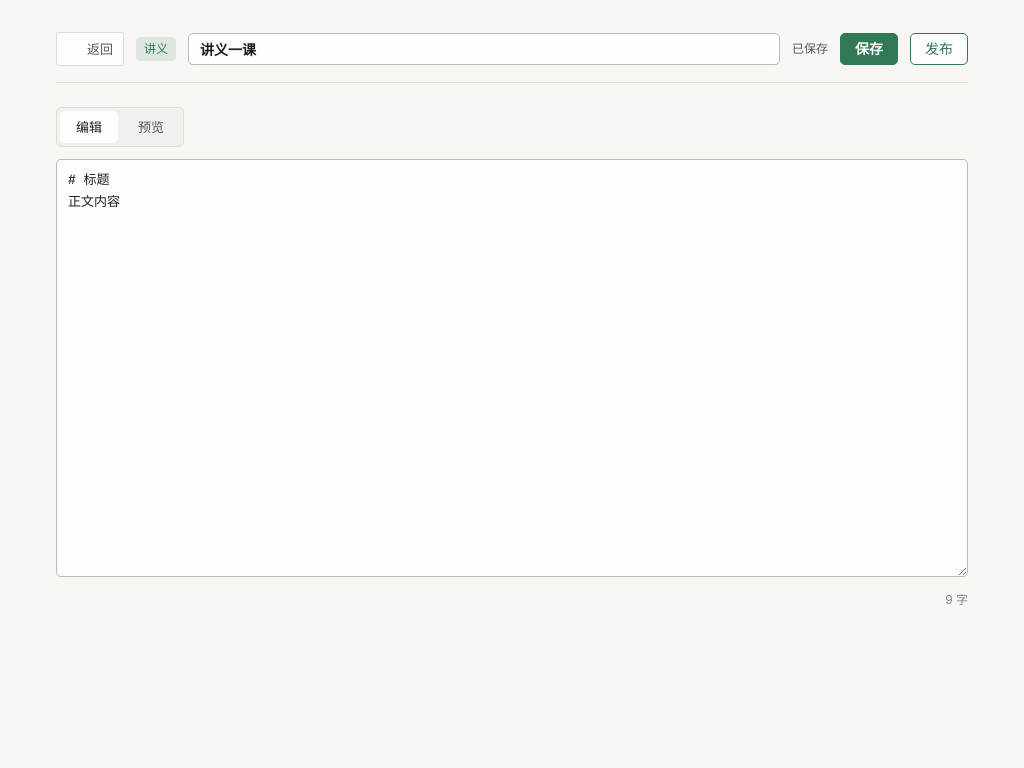
Test: LessonMarkdownEditor › 预览模式渲染 sanitize 后的 markdown
Click the button "预览" at {"x": 151, "y": 127}, box [122,111,180,143]
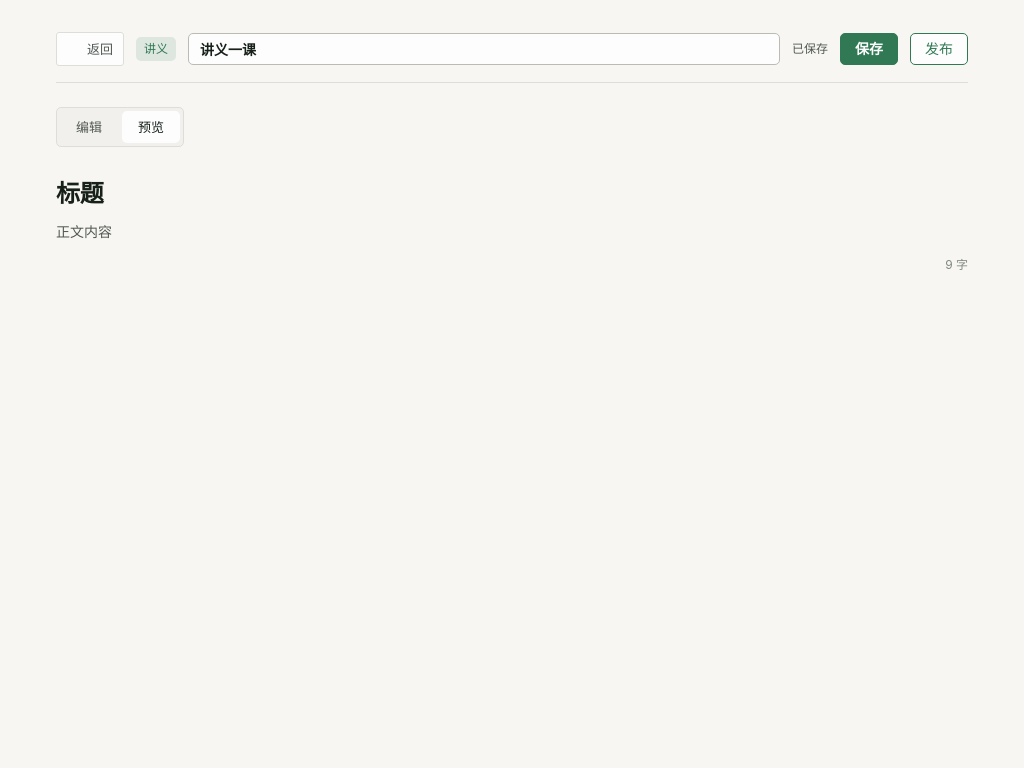
expect the element with class "lesson-content" shows "正文内容": met, box [56,223,112,240]
危险脚本被 sanitize 剥离
Click the button "编辑" at {"x": 89, "y": 127}, box [60,111,118,143]
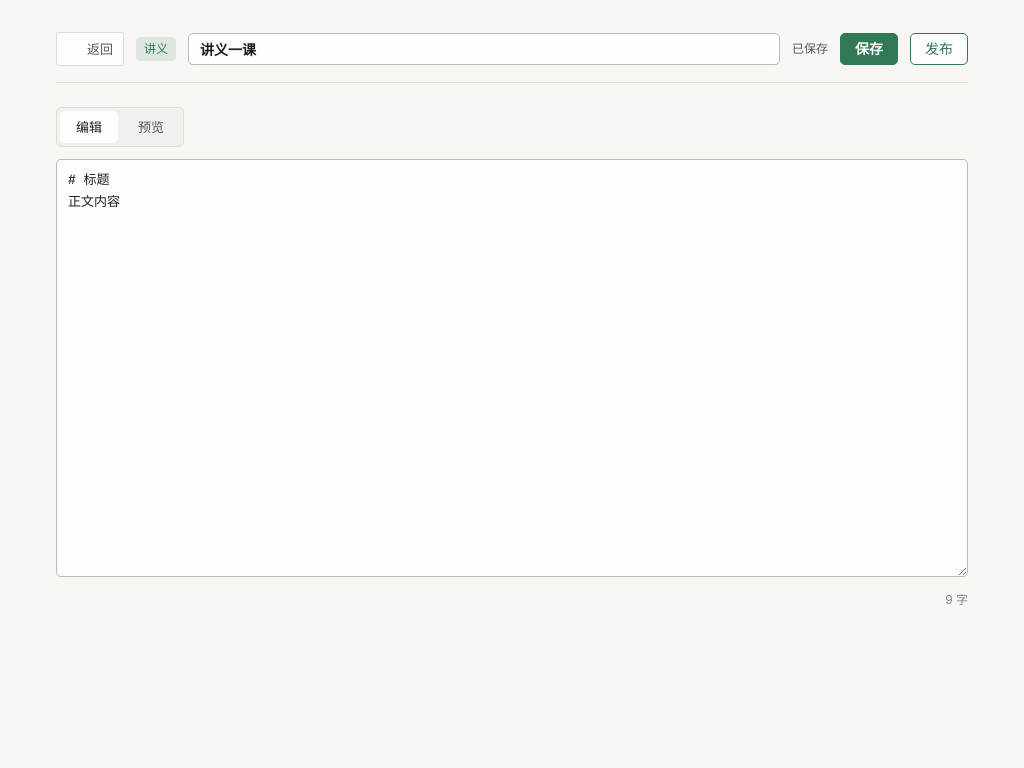
Replace the text in the text box with class "content-textarea" with "<script>alert(1)</script>正文" at {"x": 512, "y": 368}, box [56,159,968,577]
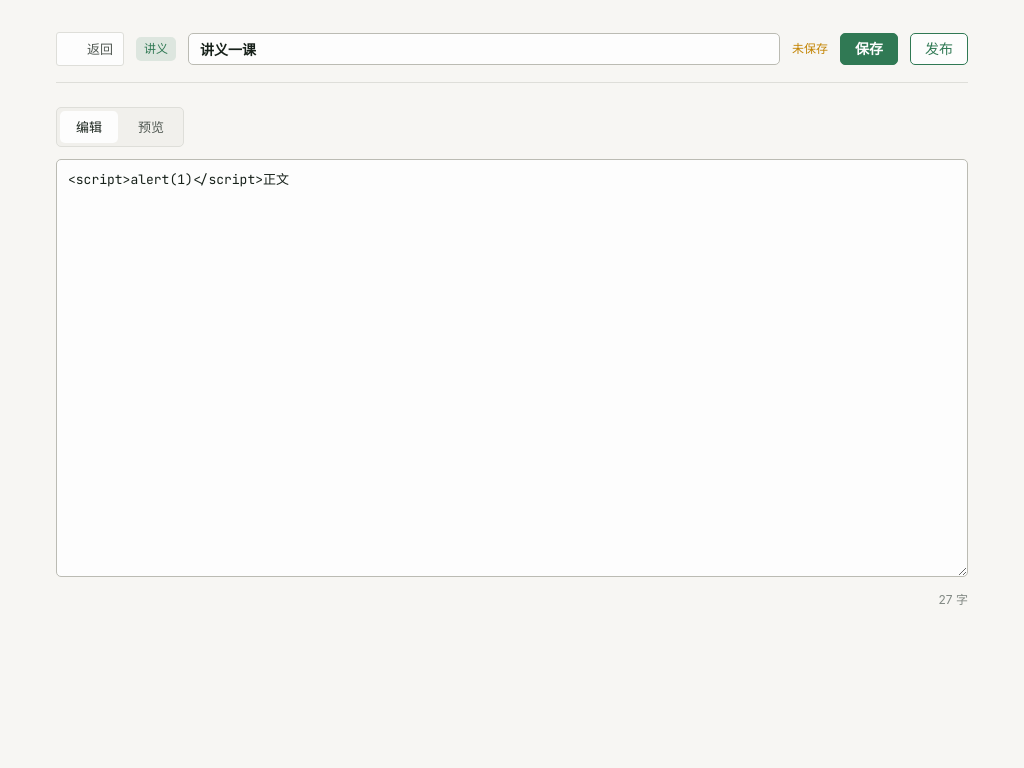
Click the button "预览" at {"x": 151, "y": 127}, box [122,111,180,143]
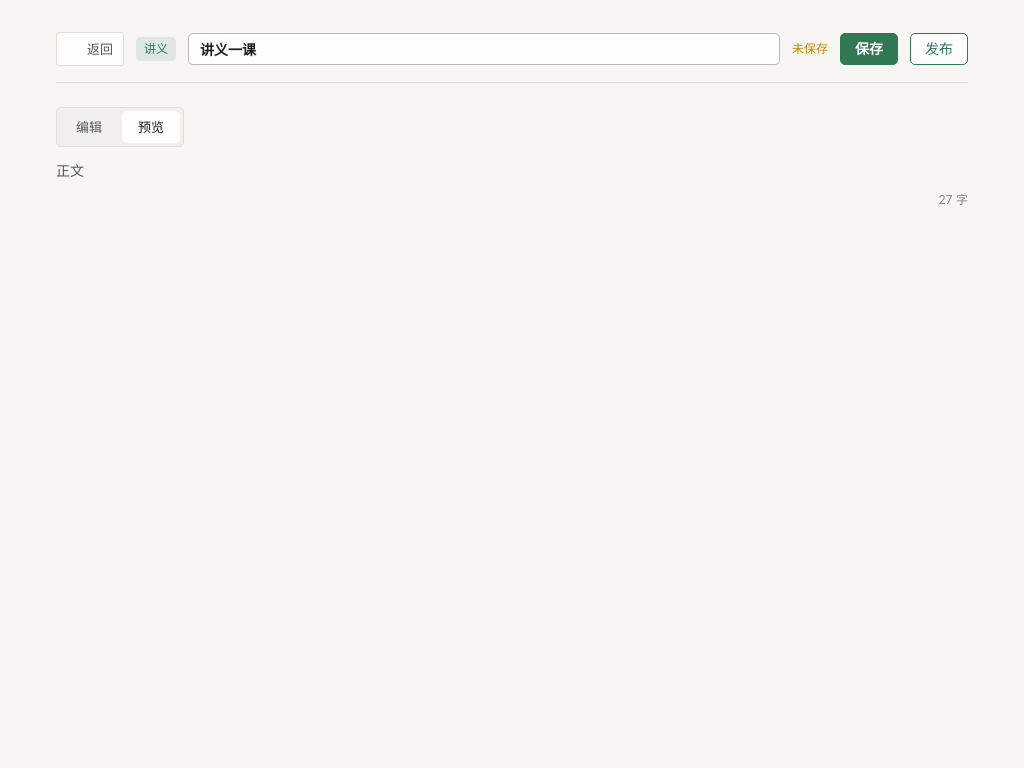
expect the text with class "lesson-content" reads "正文": met, box [56,162,84,179]
